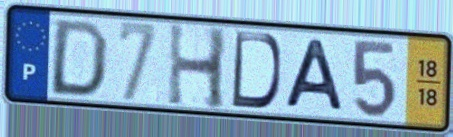5: (350, 38, 401, 120)
7: (115, 18, 163, 105)
A: (282, 36, 347, 114)
D: (45, 17, 112, 100), (228, 28, 284, 111)
H: (165, 19, 230, 113)
